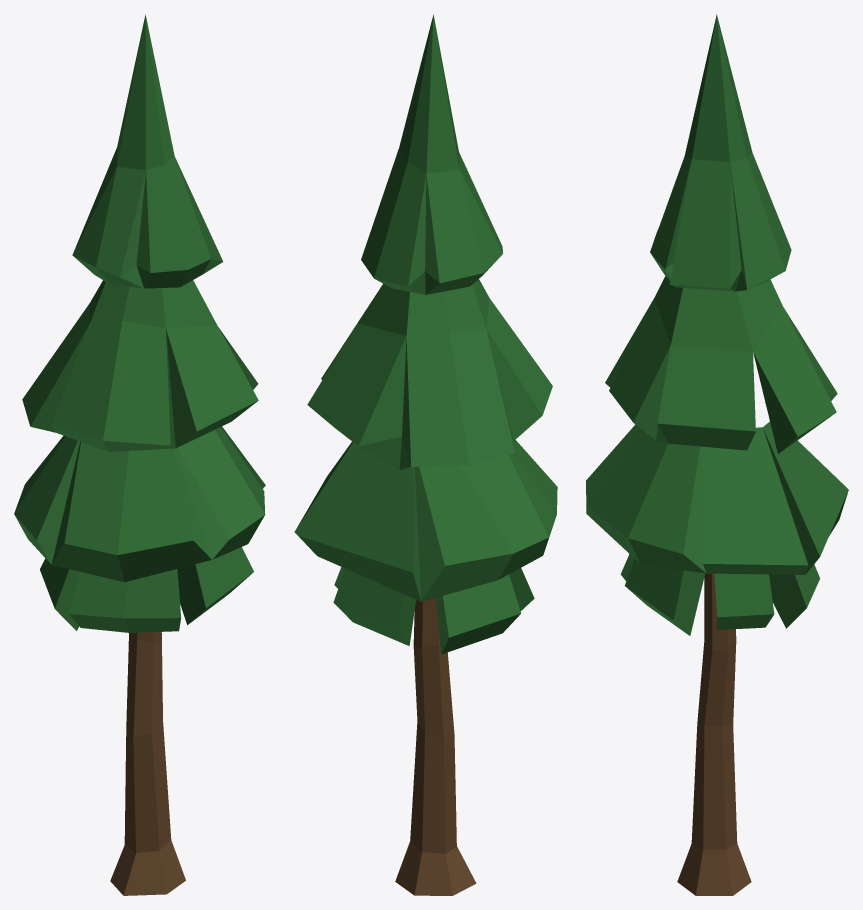
Rendered from tree-forest.glb.
3 views of the same model, side by side, from view 1: azimuth 30°, elevation 25°; view 2: azimuth 150°, elevation 25°; view 3: azimuth 270°, elevation 25° (orthographic).
Parts seen in each view (by area): view 1: tree-forest; view 2: tree-forest; view 3: tree-forest.
Boxes of the visible parts, x1,y1,x2,y2 form: tree-forest: (14, 14, 265, 895); tree-forest: (294, 14, 557, 895); tree-forest: (586, 14, 848, 895).
Size of the model in its own units: 2.41 by 8.85 by 2.43.
1 material, 1 textured.
